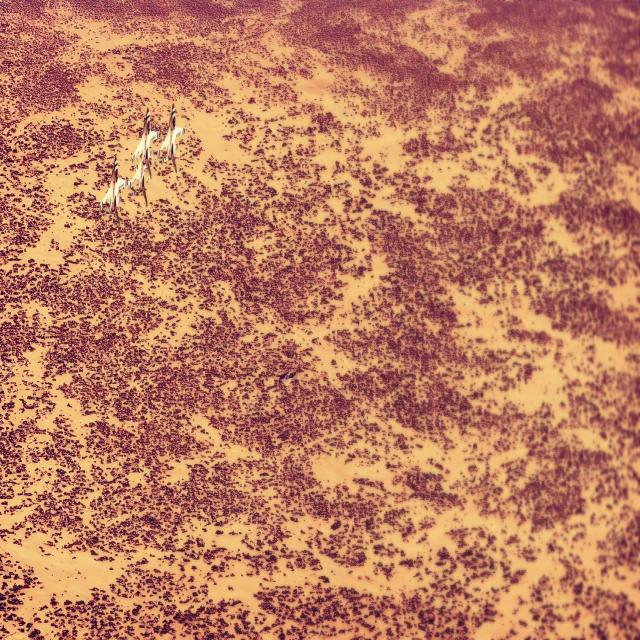airplane: (100, 155, 129, 224), (131, 106, 158, 178), (159, 105, 186, 172)
